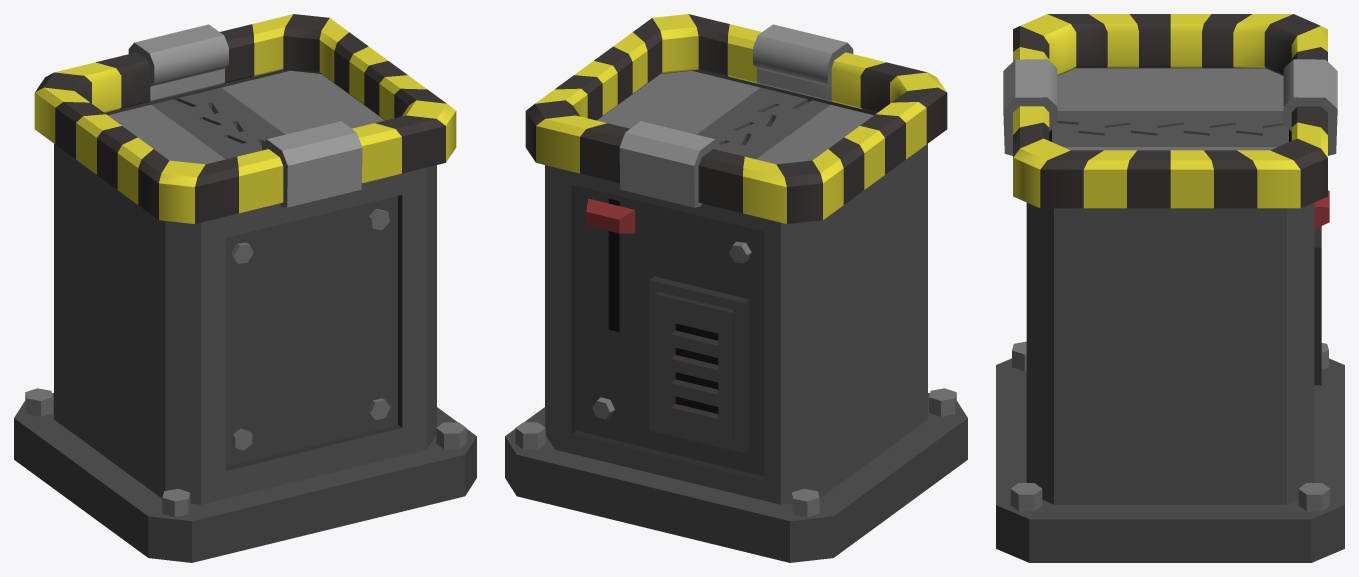
File: DisposalBin.fbx
3 renders of one model, left to right at view 1: azimuth 30°, elevation 25°; view 2: azimuth 150°, elevation 25°; view 3: azimuth 270°, elevation 25°, orthographic. The views are drawn at different scales.
Parts seen in each view (by area): view 1: DisposalBin, DisposalBinLidR, DisposalBinLidL; view 2: DisposalBin, DisposalBinLidR, DisposalBinLidL; view 3: DisposalBin, DisposalBinLidL, DisposalBinLidR.
Boxes of the visible parts, bbox=[...] form: DisposalBin: bbox=[14, 14, 476, 562]; DisposalBinLidR: bbox=[177, 70, 384, 146]; DisposalBinLidL: bbox=[108, 99, 261, 164]; DisposalBin: bbox=[505, 14, 967, 562]; DisposalBinLidR: bbox=[597, 70, 807, 145]; DisposalBinLidL: bbox=[720, 100, 873, 164]; DisposalBin: bbox=[996, 14, 1344, 562]; DisposalBinLidL: bbox=[1057, 68, 1283, 135]; DisposalBinLidR: bbox=[1052, 123, 1288, 150].
Size of the model in its own units: 0.7144 by 0.7928 by 0.626.
